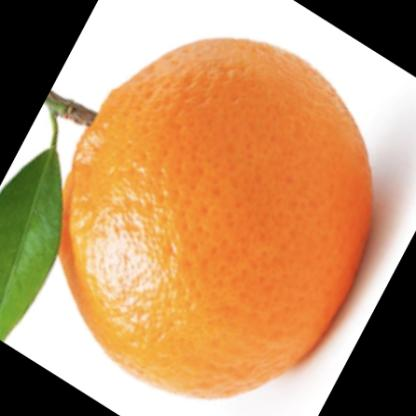fresh: (52, 39, 370, 402)
